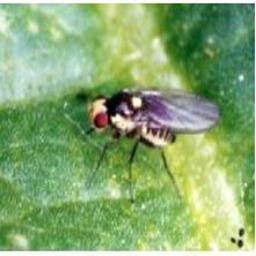liriomyza: (72, 85, 221, 199)
